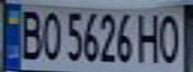2: (97, 8, 118, 63)
5: (63, 6, 84, 62)
6: (115, 8, 139, 63), (78, 7, 100, 63)
B: (15, 6, 45, 61)
H: (136, 9, 163, 64)
O: (157, 9, 184, 64), (39, 6, 63, 61)
